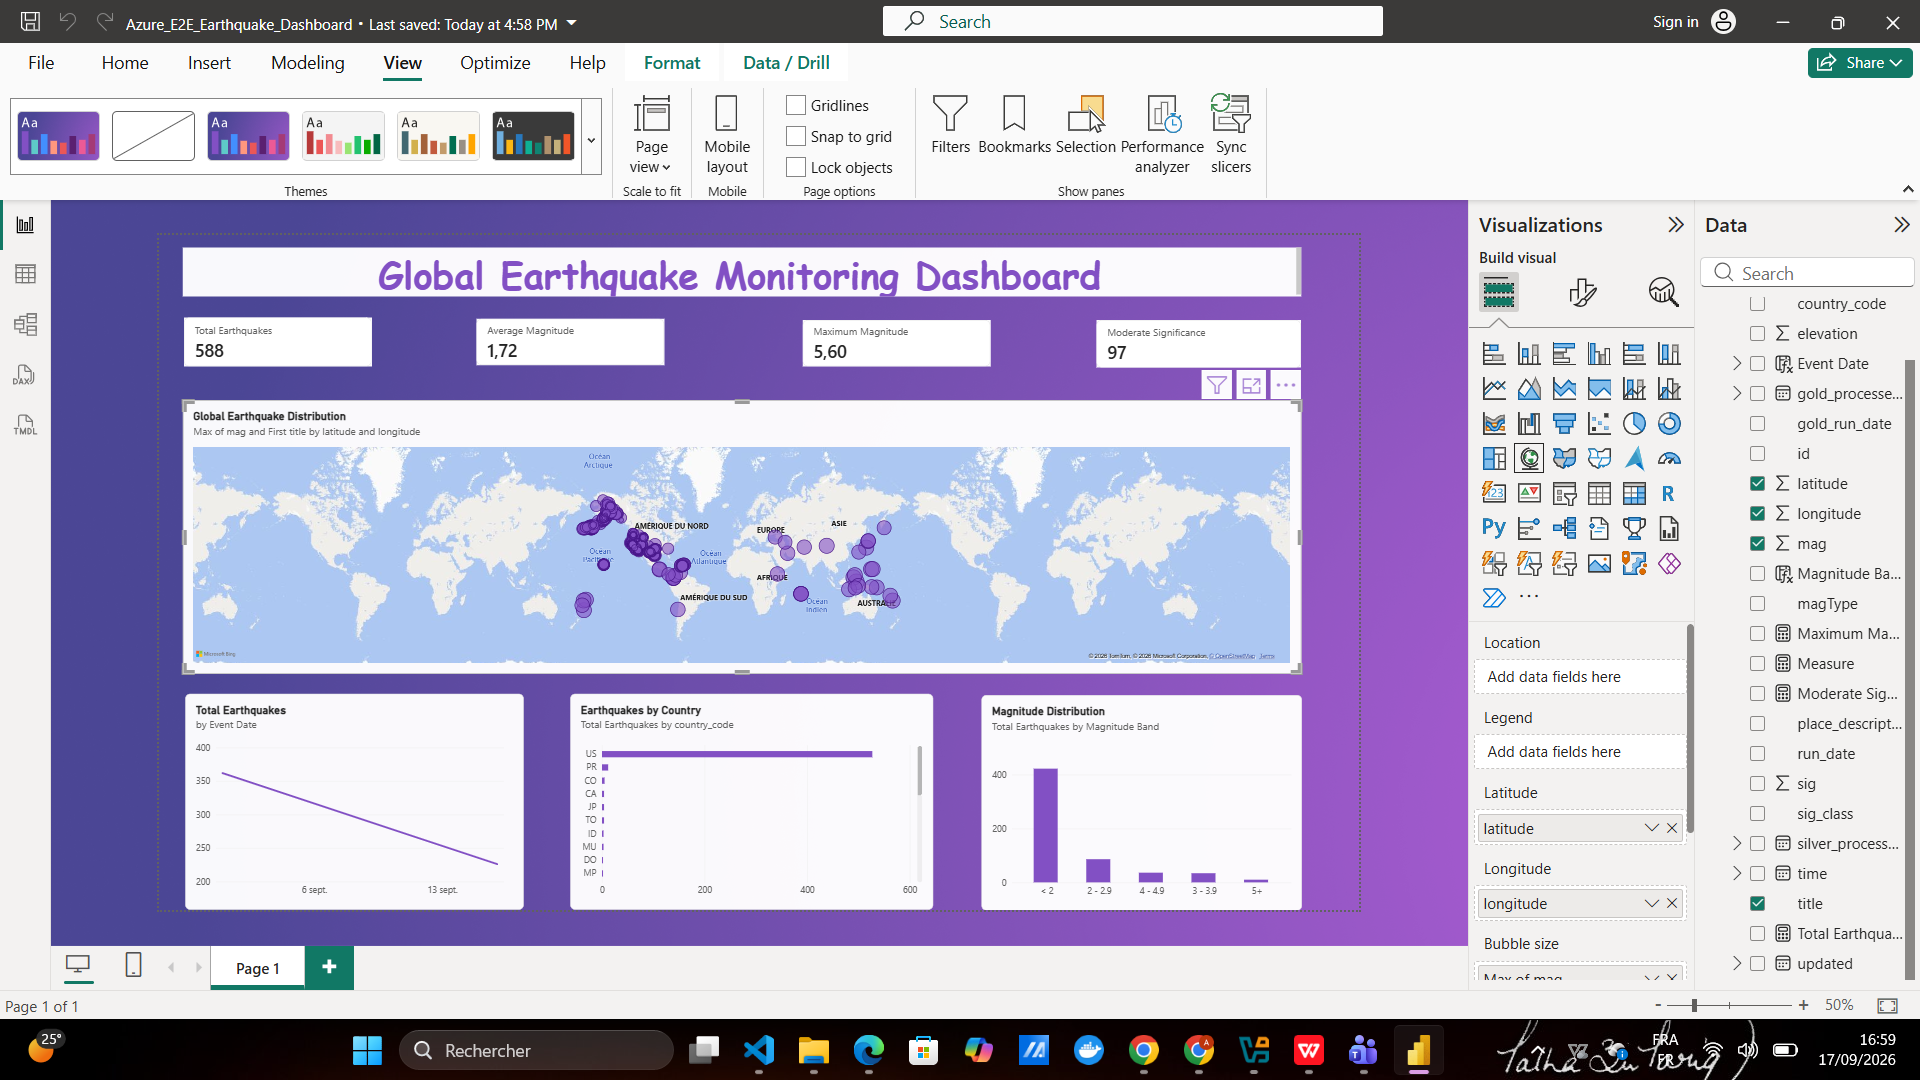

Layout of this report page (visuals, bound fields, positions):
{"tool":"powerbi","page":{"name":"Page 1","canvas":[1920,1080],"ordinal":0},"visuals":[{"type":"cardVisual","fields":{"Data":["vw_earthquakes.Total Earthquakes"]},"box":[40.4,131.9,300.5,78.2],"z":0},{"type":"cardVisual","fields":{"Data":["vw_earthquakes.Average Magnitude"]},"box":[508.5,134,300.5,74.1],"z":1000},{"type":"cardVisual","fields":{"Data":["vw_earthquakes.Maximum Magnitude"]},"box":[1029.8,136.2,300.5,74.1],"z":2000},{"type":"cardVisual","fields":{"Data":["vw_earthquakes.High Significance"]},"box":[1500,136.2,327.3,76.2],"z":3000},{"type":"map","title":"Global Earthquake Distribution","fields":{"Size":["Max(vw_earthquakes.mag)"],"X":["vw_earthquakes.longitude"],"Y":["vw_earthquakes.latitude"]},"box":[38.3,263.8,1789.4,438.3],"z":4000},{"type":"lineChart","fields":{"Category":["vw_earthquakes.Event Date"],"Y":["vw_earthquakes.Total Earthquakes"]},"box":[41.2,734.8,541.3,345.8],"z":5001},{"type":"barChart","title":"Earthquakes by Country","fields":{"Category":["vw_earthquakes.country_code"],"Y":["vw_earthquakes.Total Earthquakes"]},"box":[658.7,734.8,580.4,345.8],"z":5002},{"type":"clusteredColumnChart","title":"Magnitude Distribution","fields":{"Category":["vw_earthquakes.Magnitude Band"],"Y":["vw_earthquakes.Total Earthquakes"]},"box":[1315,735,513,345],"z":5003},{"type":"textbox","box":[38.3,19.1,1789.4,78.7],"z":5004}]}

Visuals, with their boxes on the page's 1920x1080 design canvas (x1, y1, x2, y2). These are canvas units, not pixel positions in the 1920x1080 screenshot, which may show the page scaled, cropped or inside an application window:
cardVisual - vw_earthquakes.Total Earthquakes: 40 132 341 210
cardVisual - vw_earthquakes.Average Magnitude: 508 134 809 208
cardVisual - vw_earthquakes.Maximum Magnitude: 1030 136 1330 210
cardVisual - vw_earthquakes.High Significance: 1500 136 1827 212
"Global Earthquake Distribution" map: 38 264 1828 702
lineChart - vw_earthquakes.Event Date x vw_earthquakes.Total Earthquakes: 41 735 582 1081
"Earthquakes by Country" barChart: 659 735 1239 1081
"Magnitude Distribution" clusteredColumnChart: 1315 735 1828 1080
textbox: 38 19 1828 98
